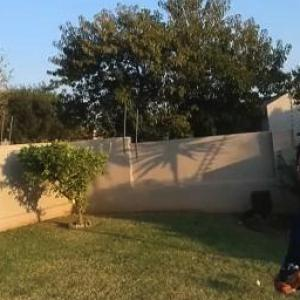follow: (272, 136, 300, 299)
